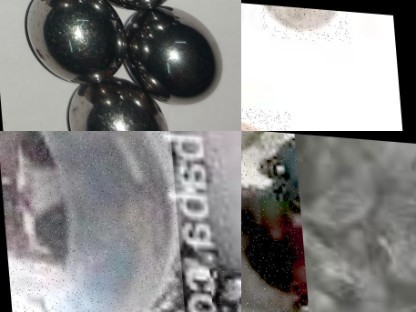ironball: (0, 131, 187, 311), (241, 131, 307, 311), (125, 8, 226, 106), (29, 0, 129, 75), (54, 75, 174, 132), (260, 0, 350, 37), (206, 262, 241, 311)
